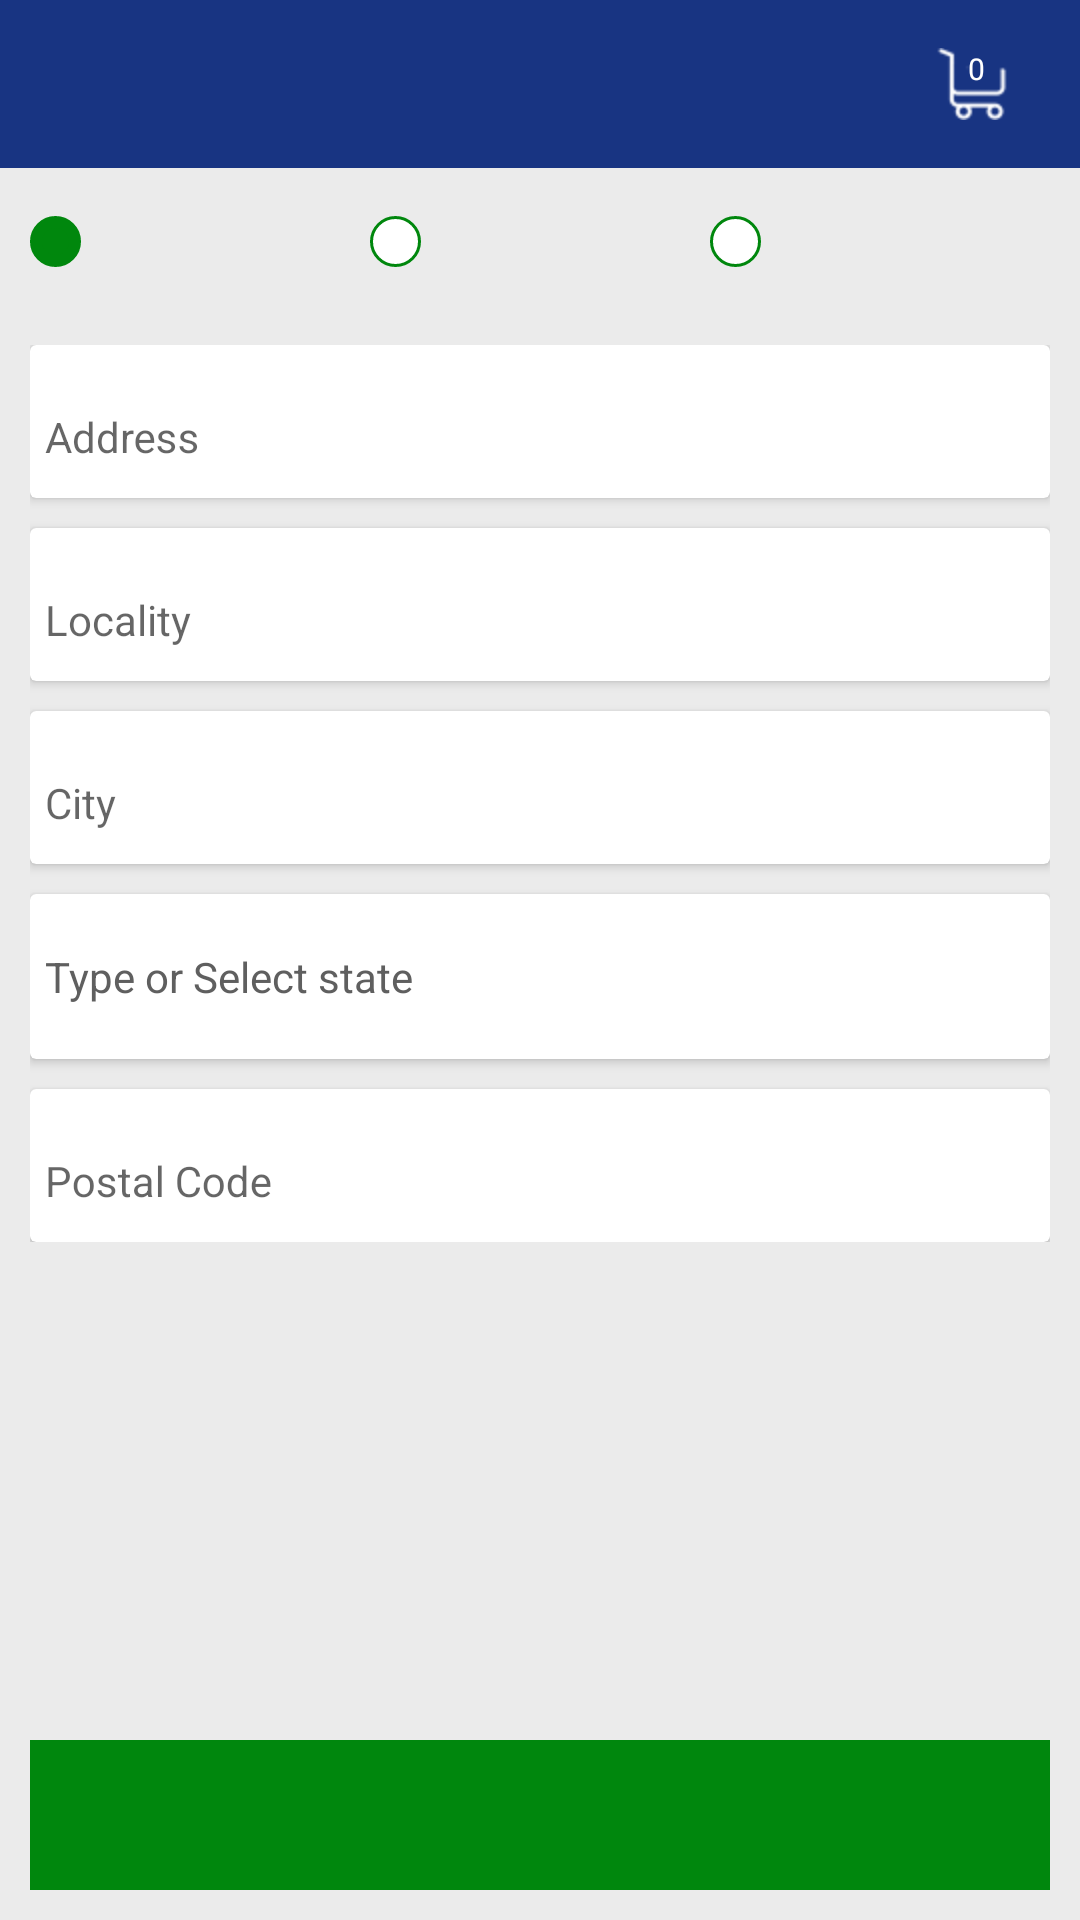

Icons on this 1080×1920 Android screen, each with its box as (x1, y1, x2, y2):
cart: (938, 48, 1007, 120)
